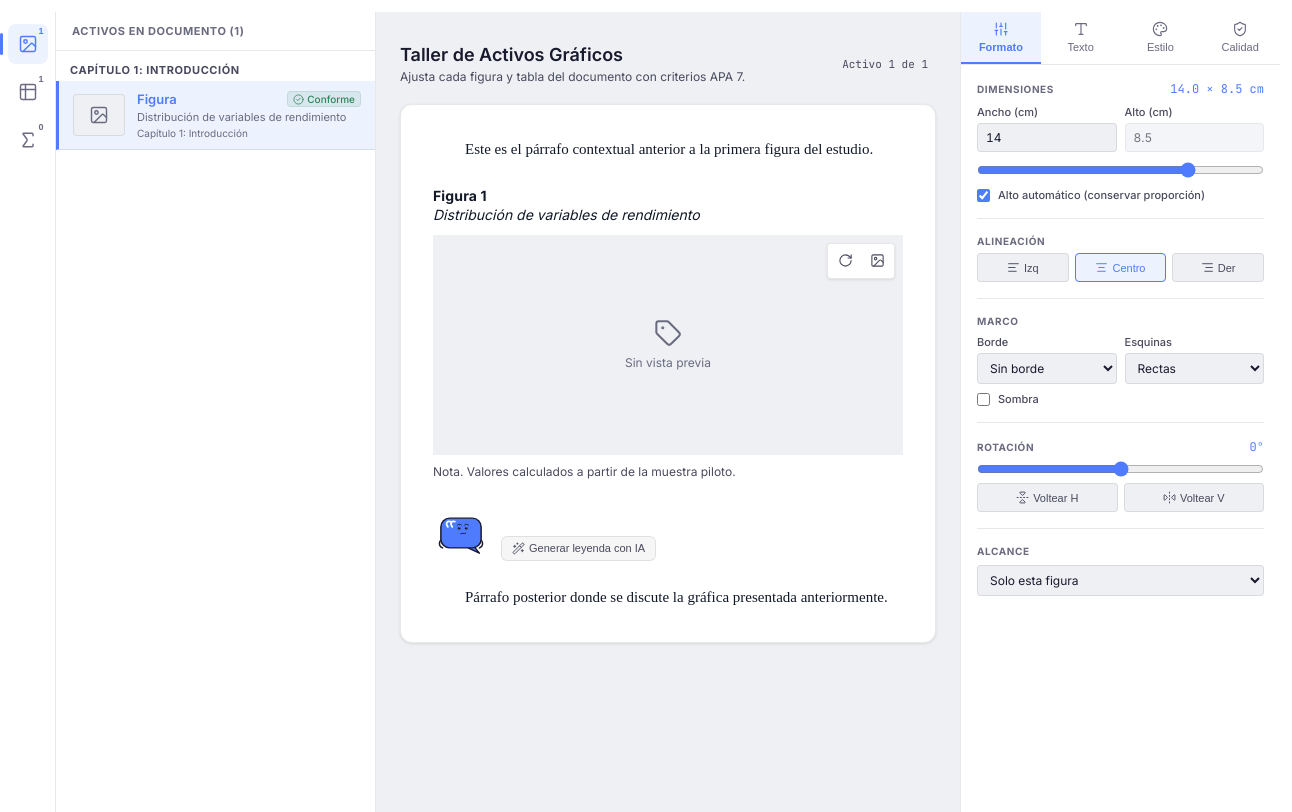
TallerFigurasView › muestra el estilo y oculta el formato exclusivo de imagen cuando el activo es una tabla
Click the 2nd button titled "Tablas (1)": coordinates (28, 92) left=8, top=72, right=48, bottom=112
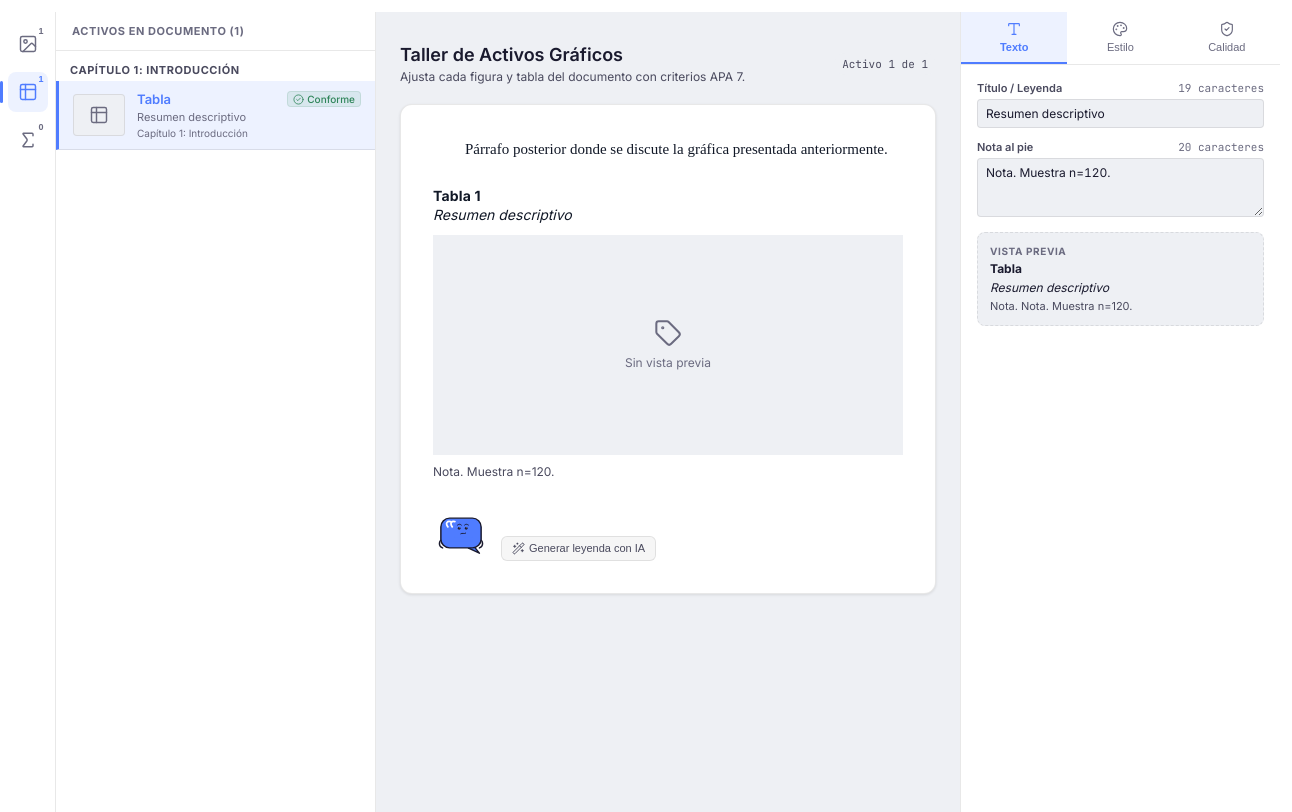
Expected: the tab "Estilo" is shown, left=1067, top=12, right=1174, bottom=64
Result: the tab "Formato" is gone
